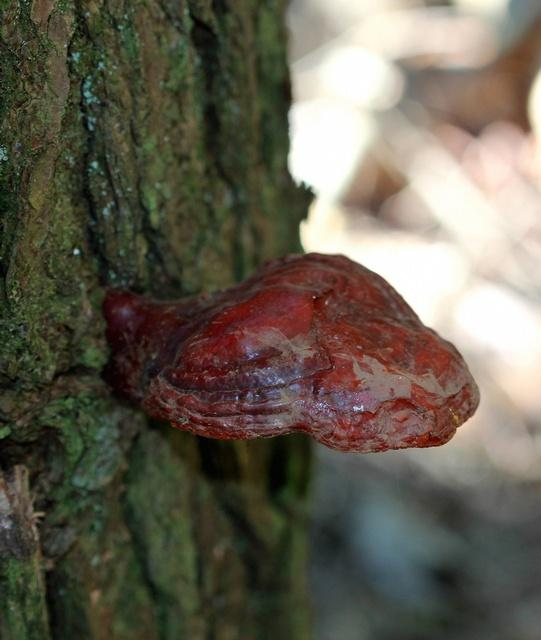Non-edible Mushroom: (99, 249, 481, 455)
